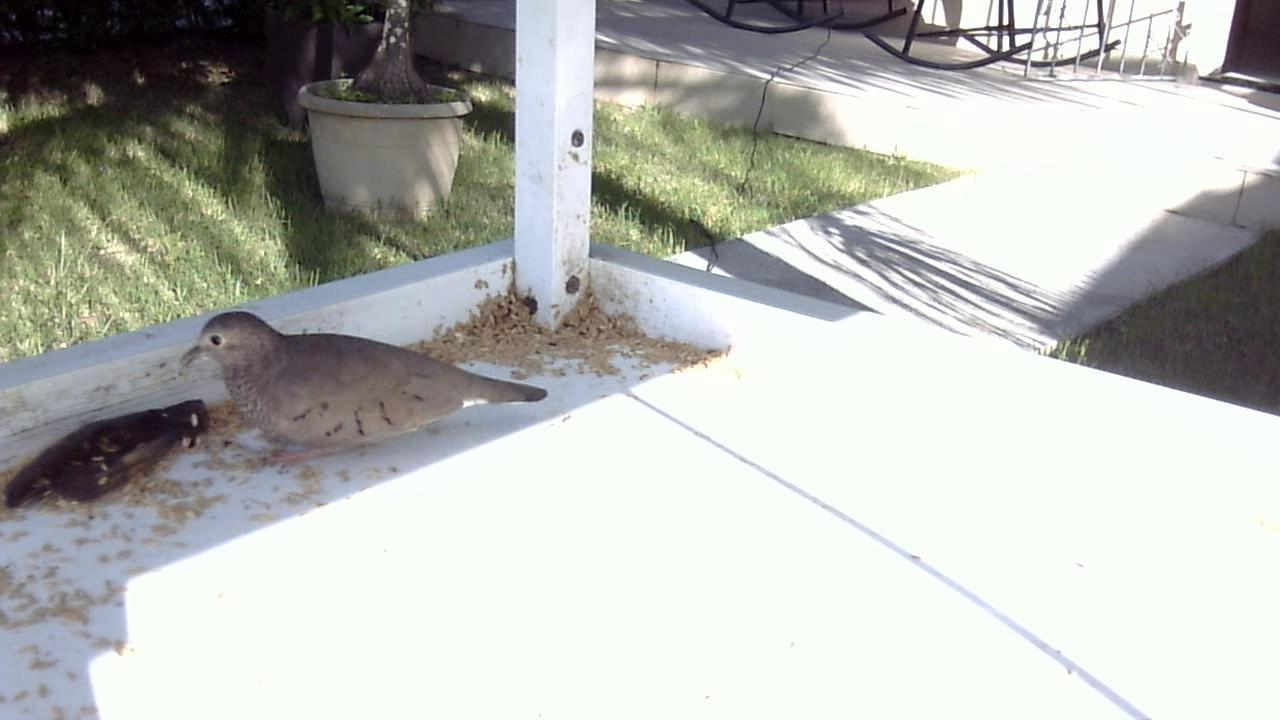rolinha: (170, 291, 562, 480)
